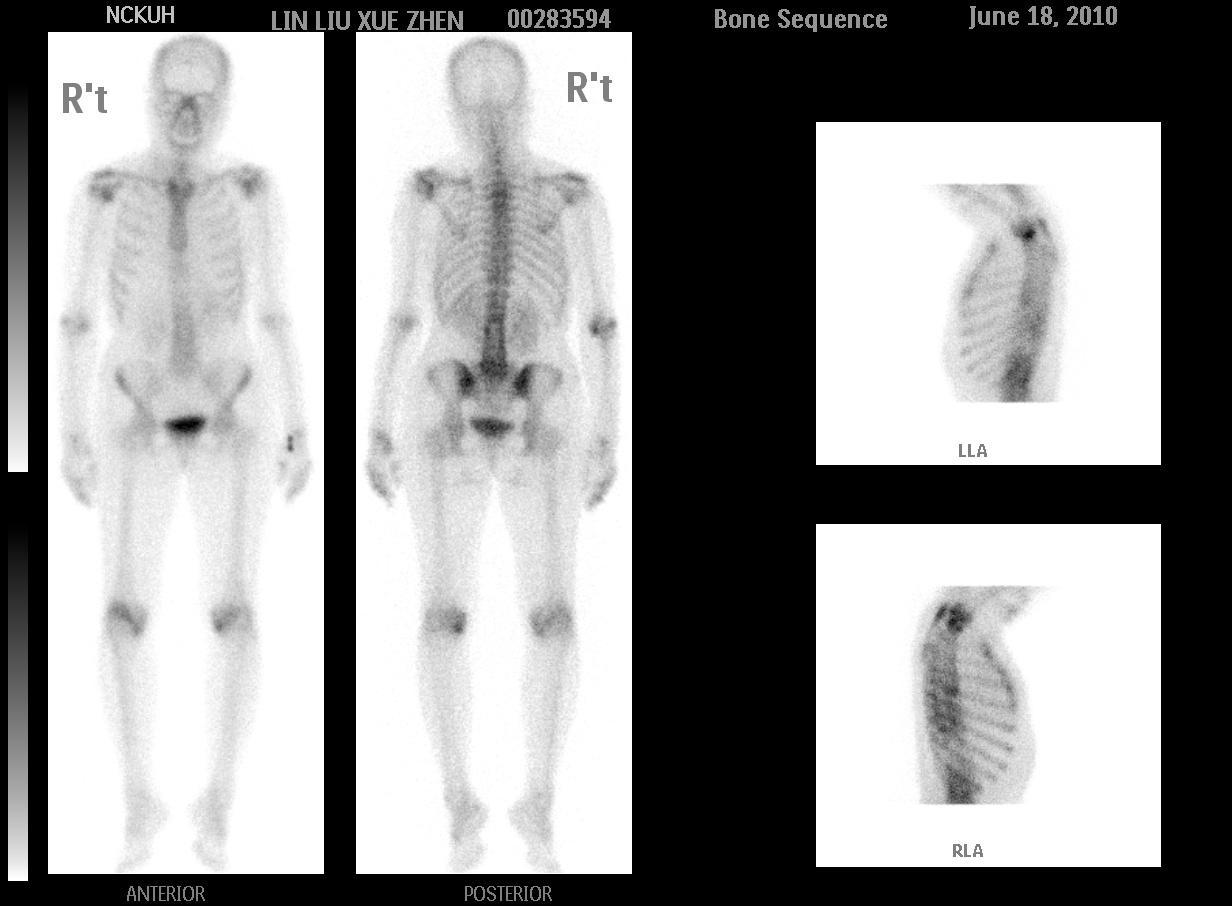person: (49, 30, 633, 875)
